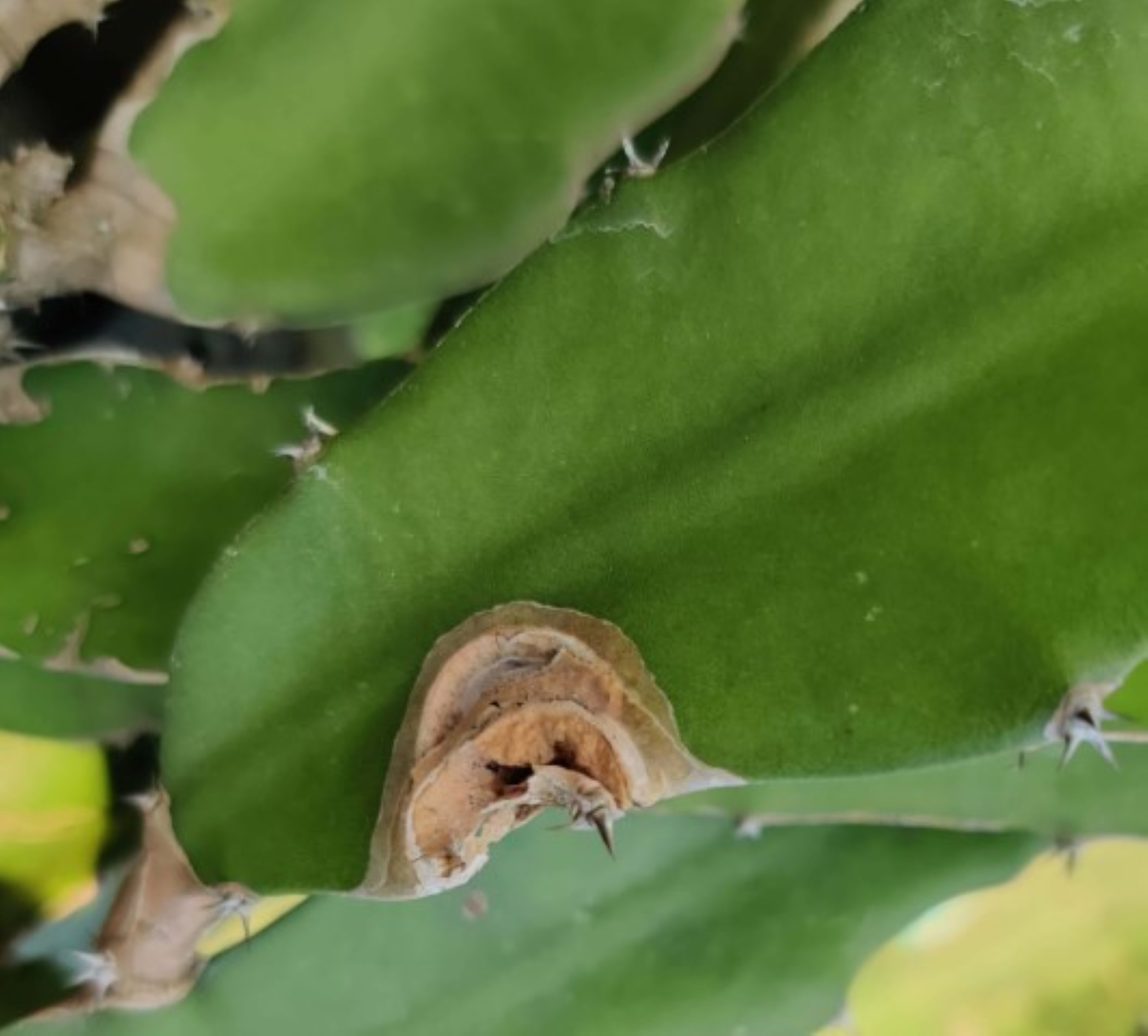stemcanker: (352, 602, 734, 903)
